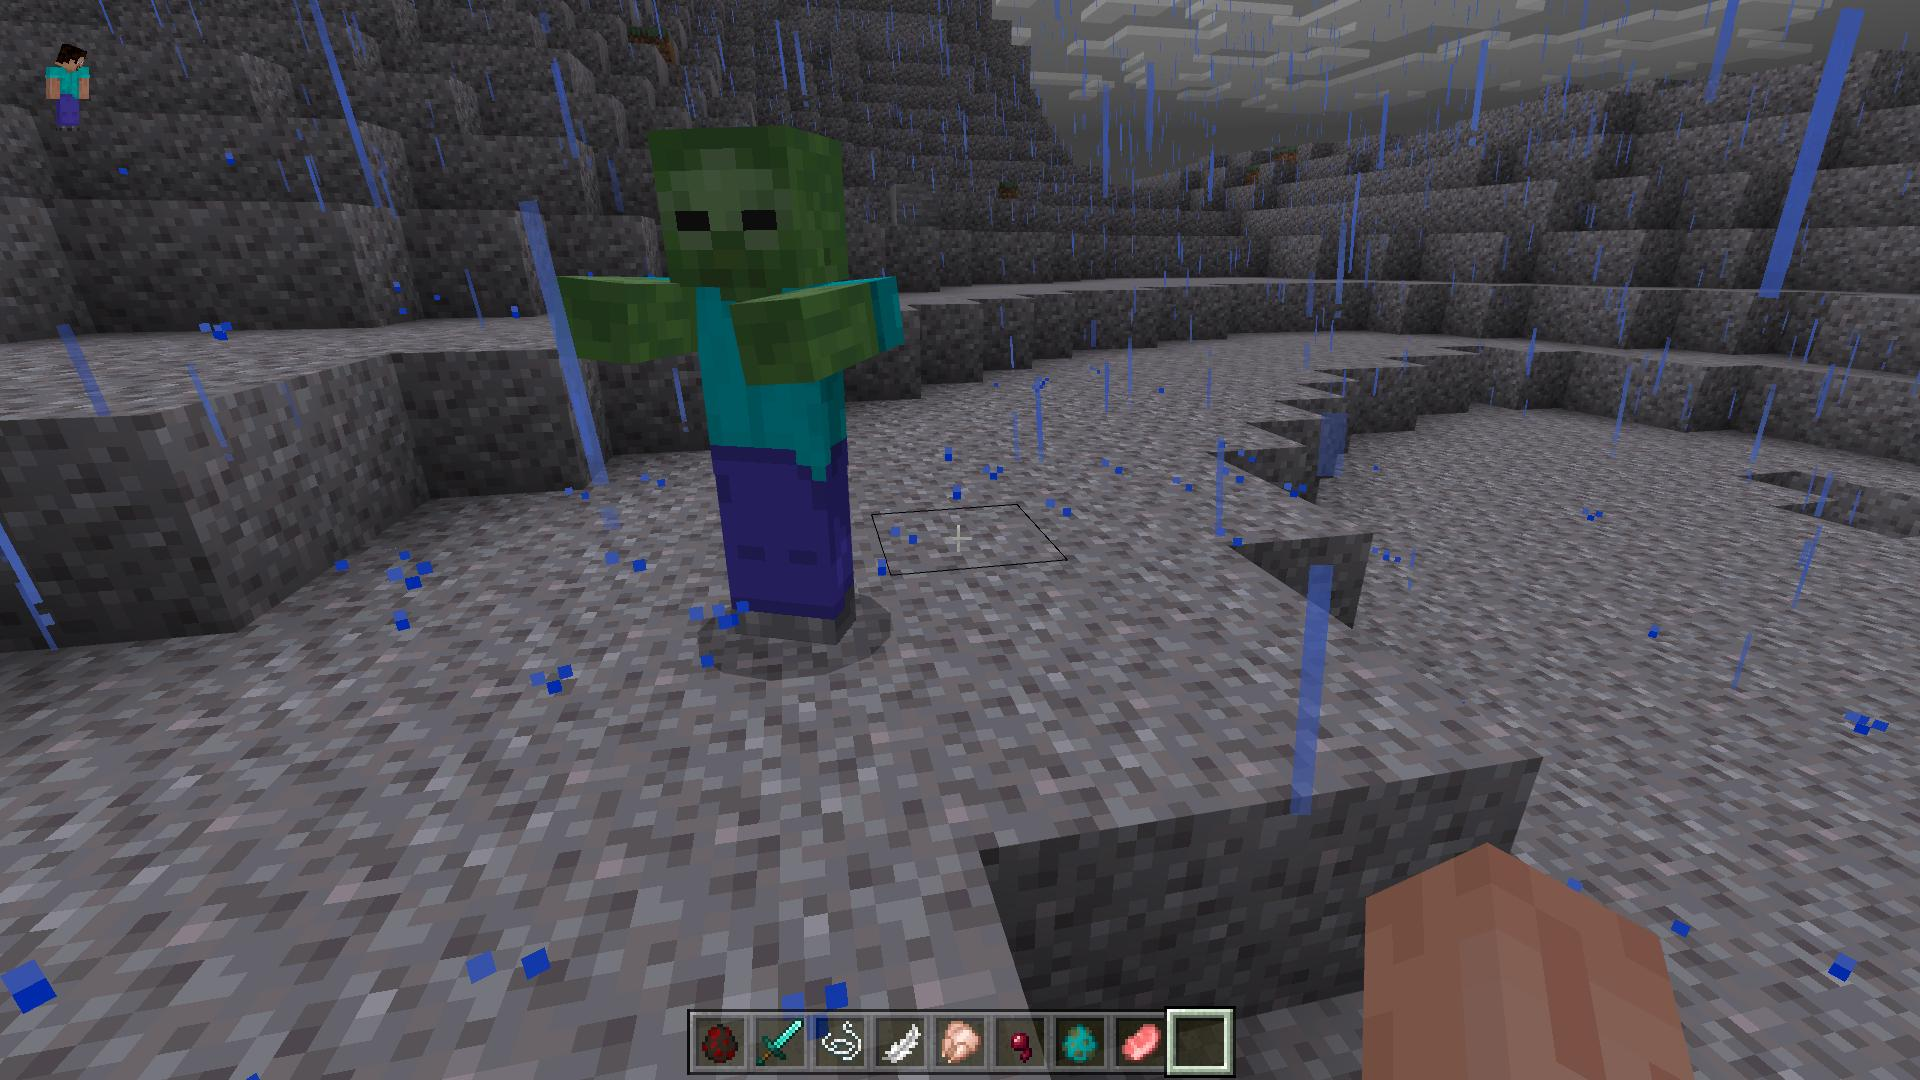zombie: (562, 128, 907, 657)
